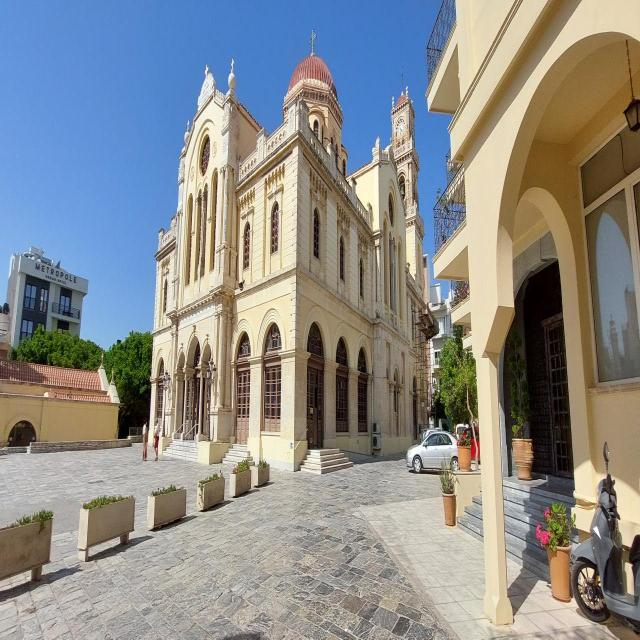Agios Minas: (145, 29, 441, 466)
